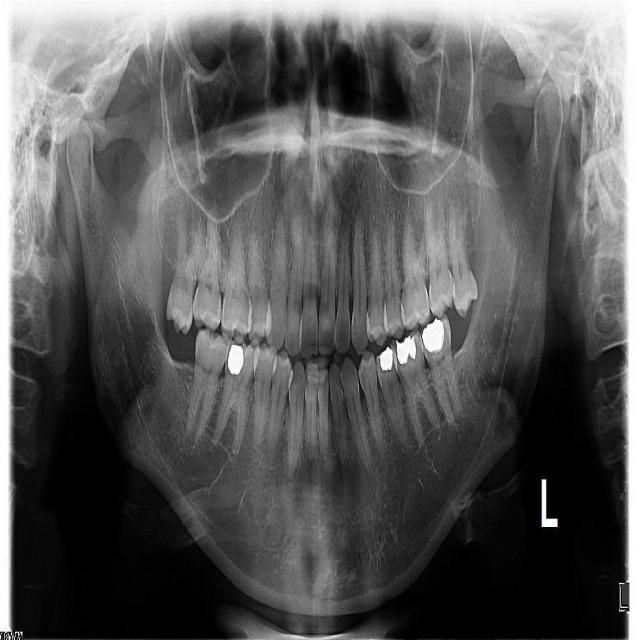NucleOSS Implant: (416, 315, 450, 355), (395, 333, 419, 364), (224, 344, 247, 376), (378, 346, 393, 371)
Sterngold Implant: (397, 300, 401, 318)
